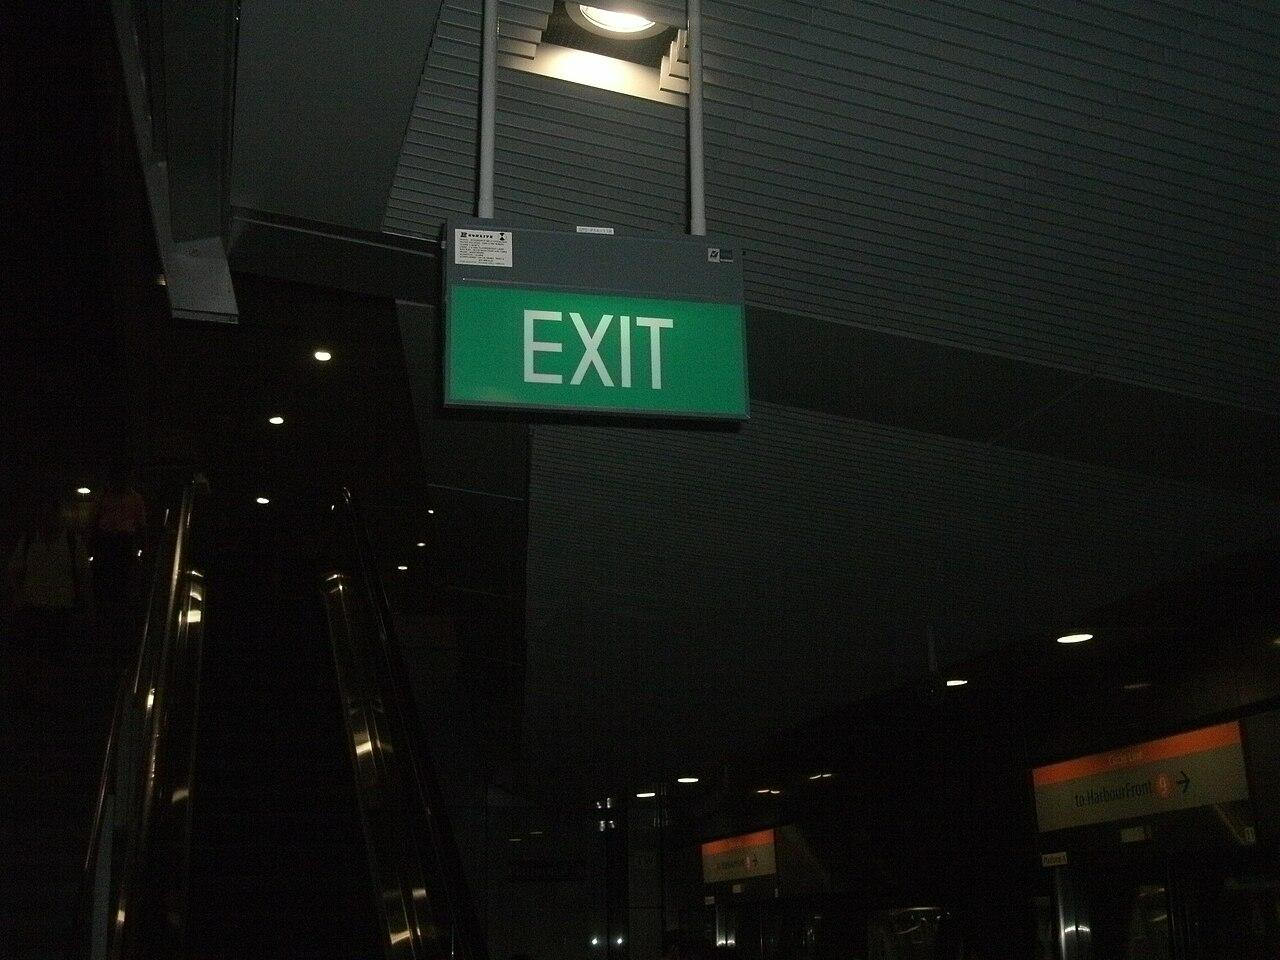lit_exit_sign: (447, 278, 746, 417)
